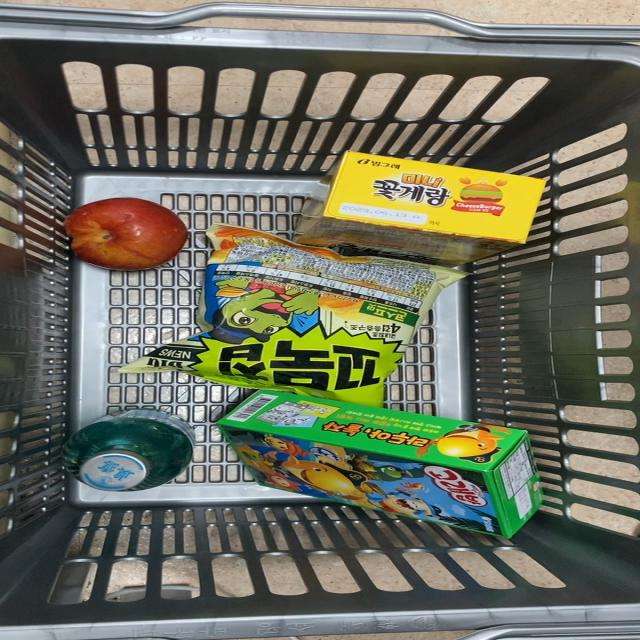ggobukchip: (180, 246, 437, 385)
goraebob: (229, 392, 551, 518)
jinro: (64, 411, 198, 488)
minicrab: (298, 136, 558, 262)
plum: (45, 193, 194, 277)
